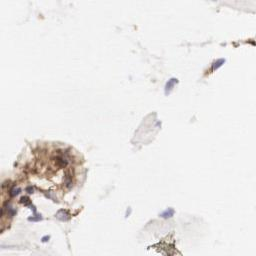nucleus: (165, 79, 177, 95), (159, 208, 174, 219), (213, 58, 226, 70), (28, 213, 43, 222), (12, 186, 23, 196), (56, 209, 66, 220), (41, 235, 51, 243), (126, 208, 132, 218), (30, 204, 37, 212), (9, 207, 17, 214), (155, 120, 162, 128), (25, 187, 34, 193)
positive_cell: (203, 57, 227, 78), (56, 208, 82, 220), (1, 198, 18, 216), (2, 180, 22, 195), (23, 183, 48, 194), (20, 197, 36, 212)
